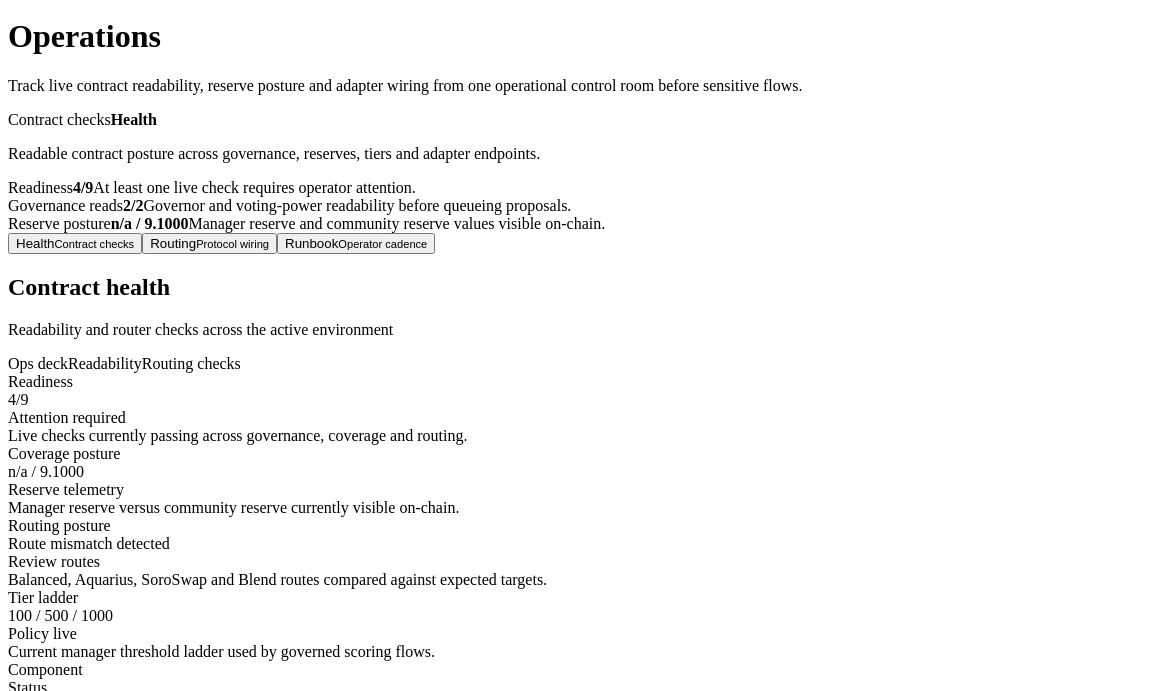
Test: operator surface matrix integration › keeps Ops visible after Soroban read failure and retries without collapsing the route
Expected: the heading "Operations" is shown, [8,18,161,54]
Expected: the element with test id "ops-workspace-summary" is shown, [8,111,605,232]
Click the button with test id "ops-workspace-tab-runbook" at {"x": 356, "y": 243}, box [277,233,435,254]
(page scrolled)
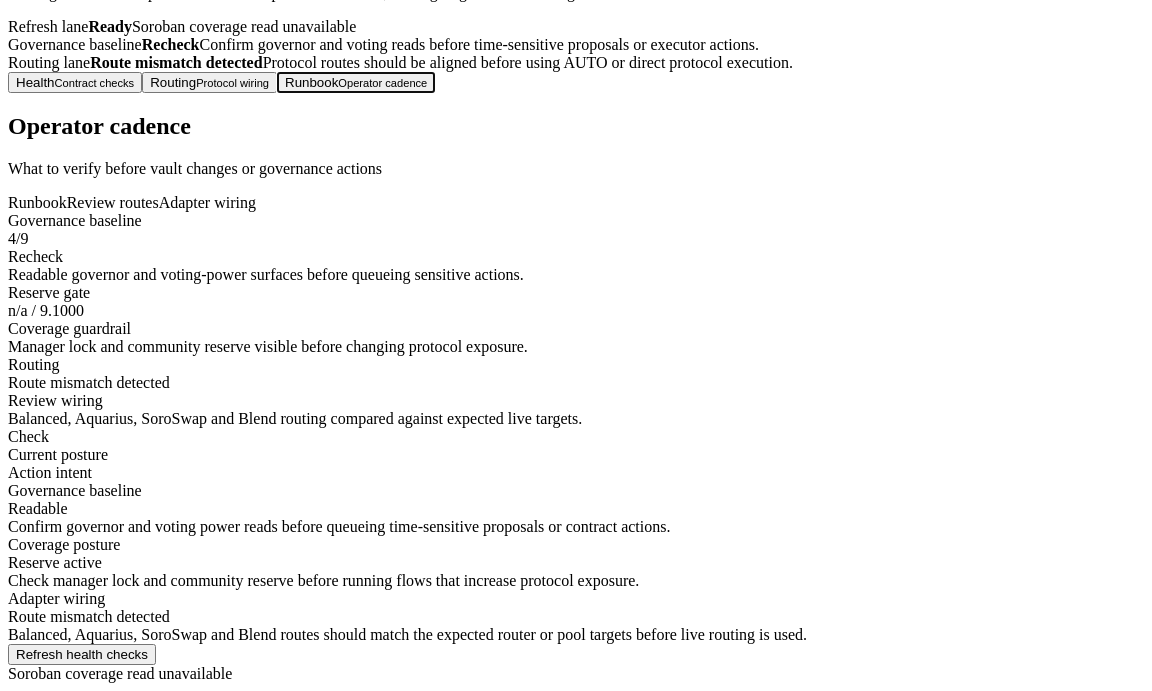
Result: the text with test id "ops-error" reads "Soroban coverage read unavailable" at [8,665,232,682]
Result: the button with test id "ops-refresh-button" is enabled
Click the button with test id "ops-refresh-button" at {"x": 82, "y": 654}, box [8,644,156,665]
(page scrolled)
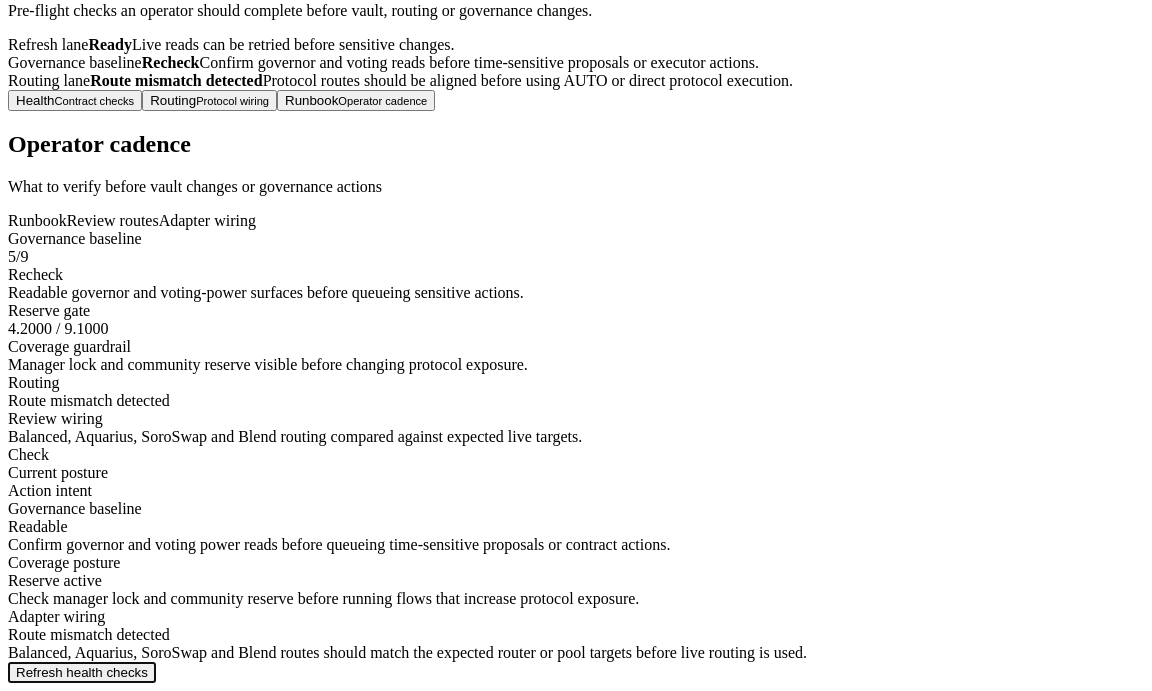
Result: the element with test id "ops-runbook-panel" shows "Operator cadence" at [8,131,191,157]
Result: the text with test id "ops-error" is gone
